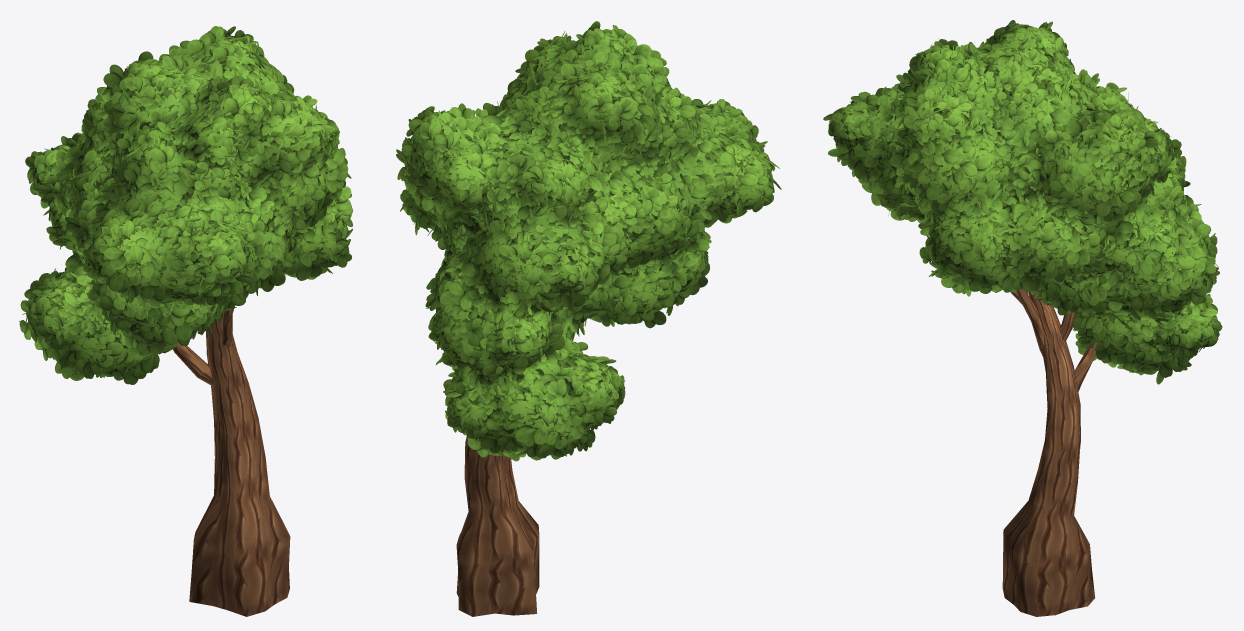
Rendered from ash_v2.glb.
3 views of the same model, side by side, from view 1: azimuth 30°, elevation 25°; view 2: azimuth 150°, elevation 25°; view 3: azimuth 270°, elevation 25° (orthographic). The views are drawn at different scales.
Visible parts, largest first — view 1: ash_v2_leaves_LOD0, ash_v2_volume_LOD0, ash_v2_trunk_LOD0; view 2: ash_v2_leaves_LOD0, ash_v2_volume_LOD0, ash_v2_trunk_LOD0; view 3: ash_v2_leaves_LOD0, ash_v2_volume_LOD0, ash_v2_trunk_LOD0.
Boxes of the visible parts, left/top/right/bottom form: ash_v2_leaves_LOD0: left=19, top=26, right=352, bottom=384; ash_v2_volume_LOD0: left=28, top=36, right=344, bottom=372; ash_v2_trunk_LOD0: left=173, top=308, right=290, bottom=616; ash_v2_leaves_LOD0: left=396, top=21, right=781, bottom=461; ash_v2_volume_LOD0: left=406, top=37, right=770, bottom=451; ash_v2_trunk_LOD0: left=456, top=436, right=539, bottom=616; ash_v2_leaves_LOD0: left=823, top=20, right=1222, bottom=384; ash_v2_volume_LOD0: left=833, top=31, right=1211, bottom=368; ash_v2_trunk_LOD0: left=1002, top=288, right=1097, bottom=616.
Size of what is drawn, in the model's own units: 6.59 by 11.42 by 7.95.
3 materials, 3 textured.
